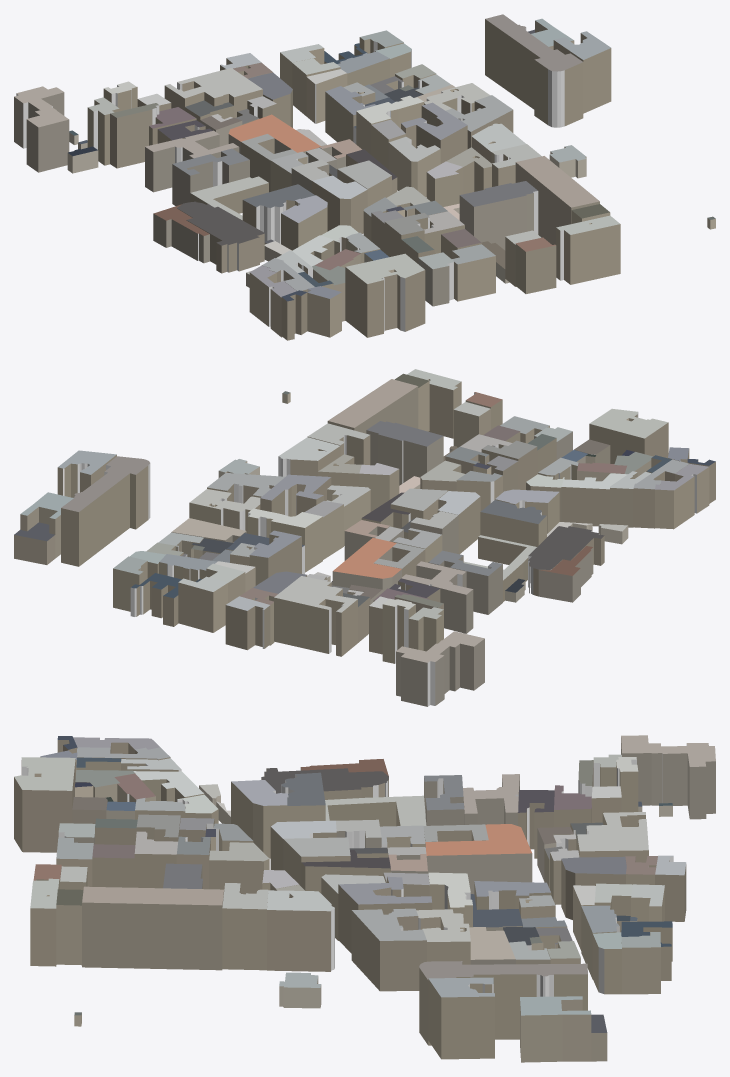
3 renders of one model, top to bottom at view 1: azimuth 30°, elevation 25°; view 2: azimuth 150°, elevation 25°; view 3: azimuth 270°, elevation 25°, orthographic. The views are drawn at different scales.
Visible parts, largest first — view 1: tuile; view 2: tuile; view 3: tuile.
Boxes of the visible parts, bbox=[...] form: tuile: bbox=[14, 14, 715, 340]; tuile: bbox=[14, 369, 715, 706]; tuile: bbox=[14, 735, 715, 1062].
Size of the model in its own units: 265 by 31.86 by 280.
